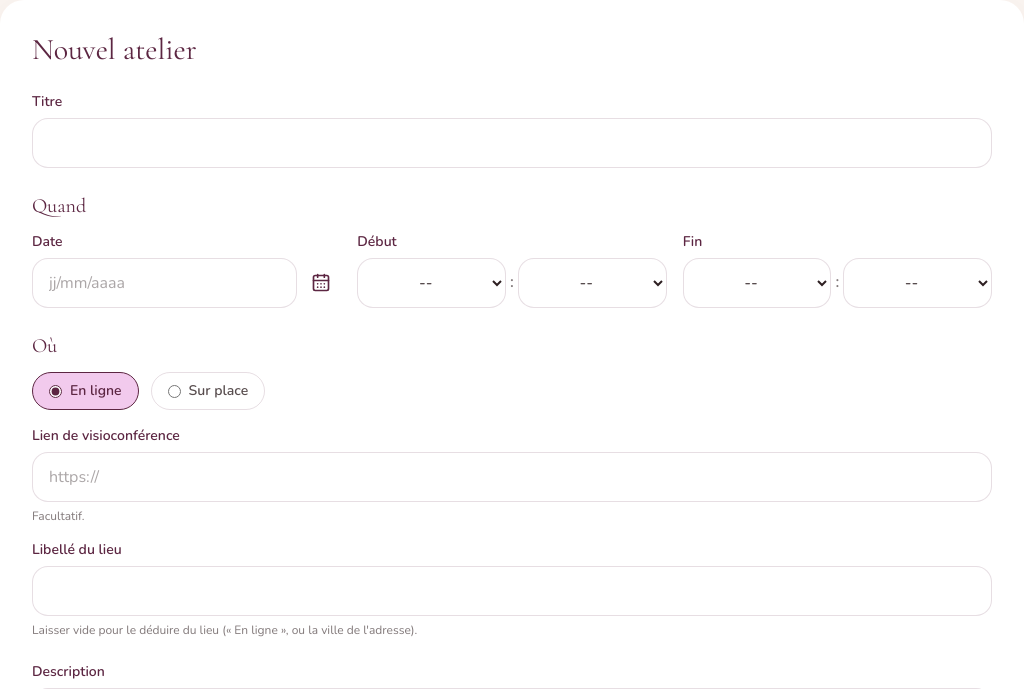
Test: EventForm › fills the date from the calendar, in French
Type "14/06/2026" into the field labelled "Date" at (165, 283), box 32,258 -> 297,308
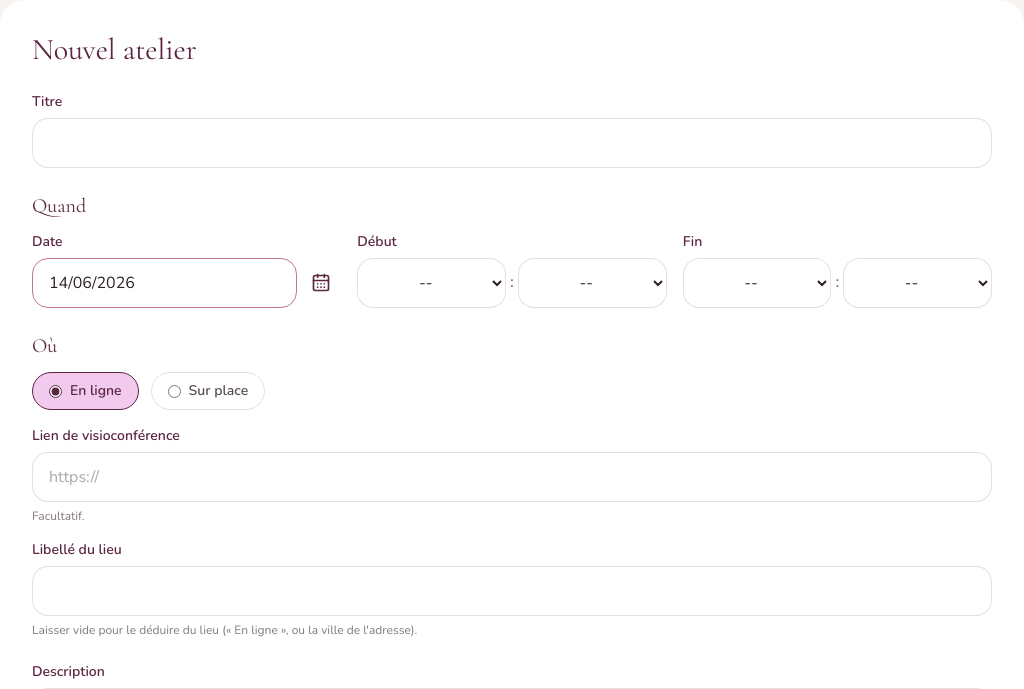
Click the button named "Choisir dans le calendrier" at (321, 283), box 301,263 -> 341,303
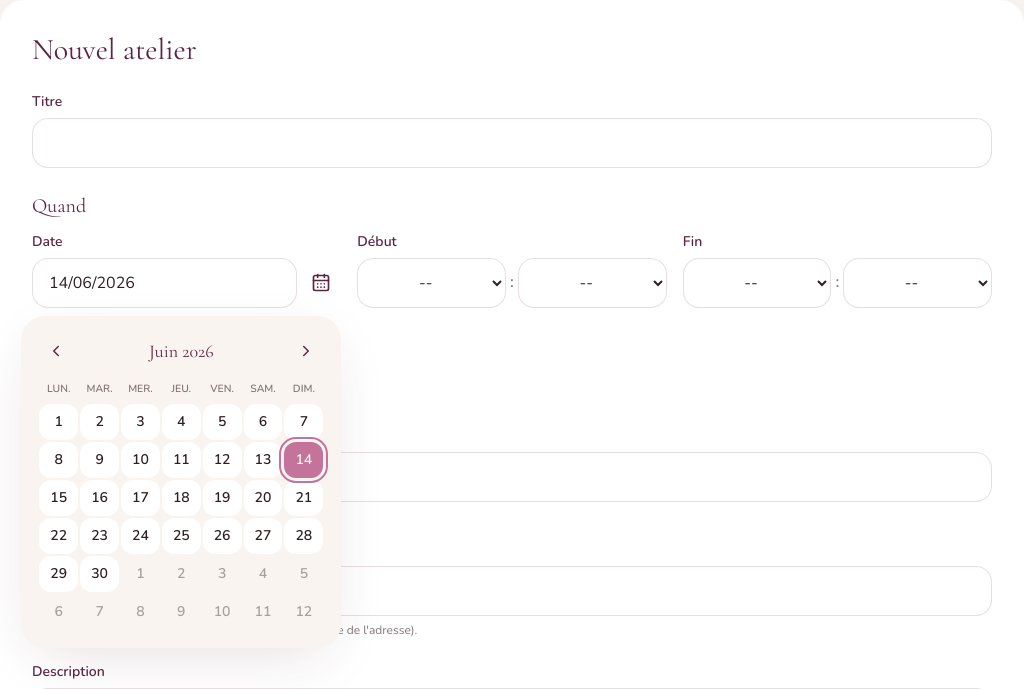
Click the button named "lundi 15 juin 2026" at (59, 498), box 39,480 -> 78,516
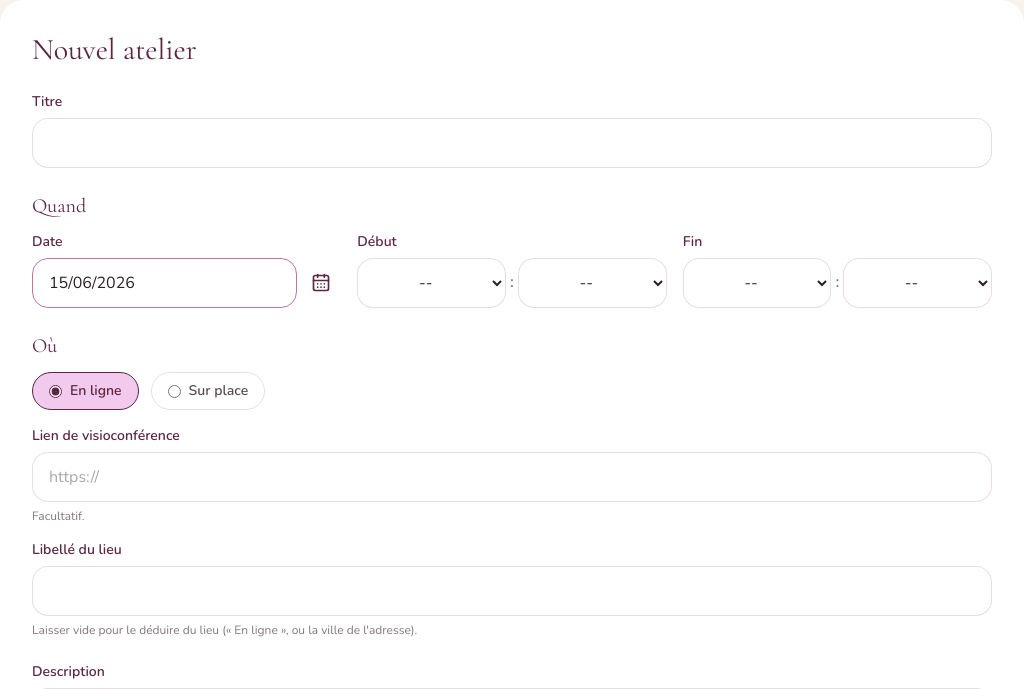
Result: the field labelled "Date" holds "15/06/2026" at 32,258 -> 297,308
Result: the dialog is gone
